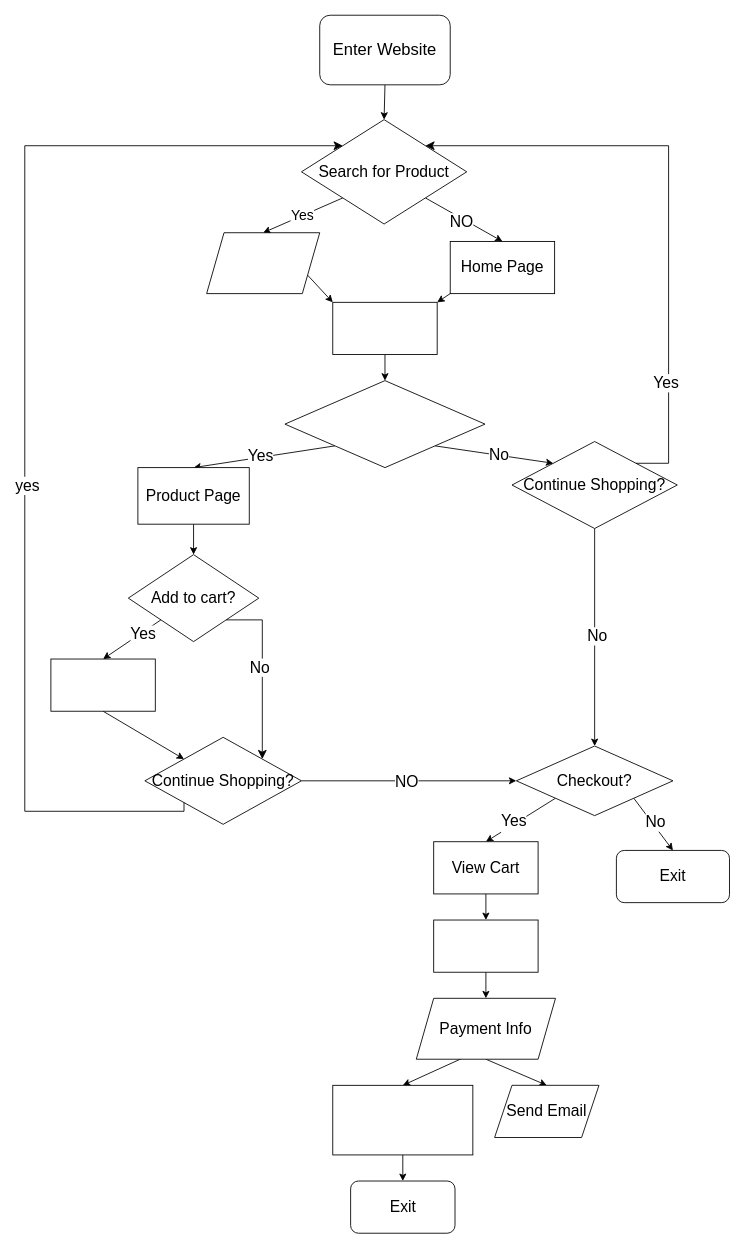
Some shapes in this 745 by 1248 pixel diagram are drawn without their labels. Here are the shapes that lost their labels. From the top down, the centre of each, then its label:
At (263,263): "Search input".
At (384,328): "Browse Product".
At (384,424): "View specific product?".
At (102,684): "Added to cart Confirmation".
At (485,945): "Payment".
At (402,1119): "Order Confirmation".
